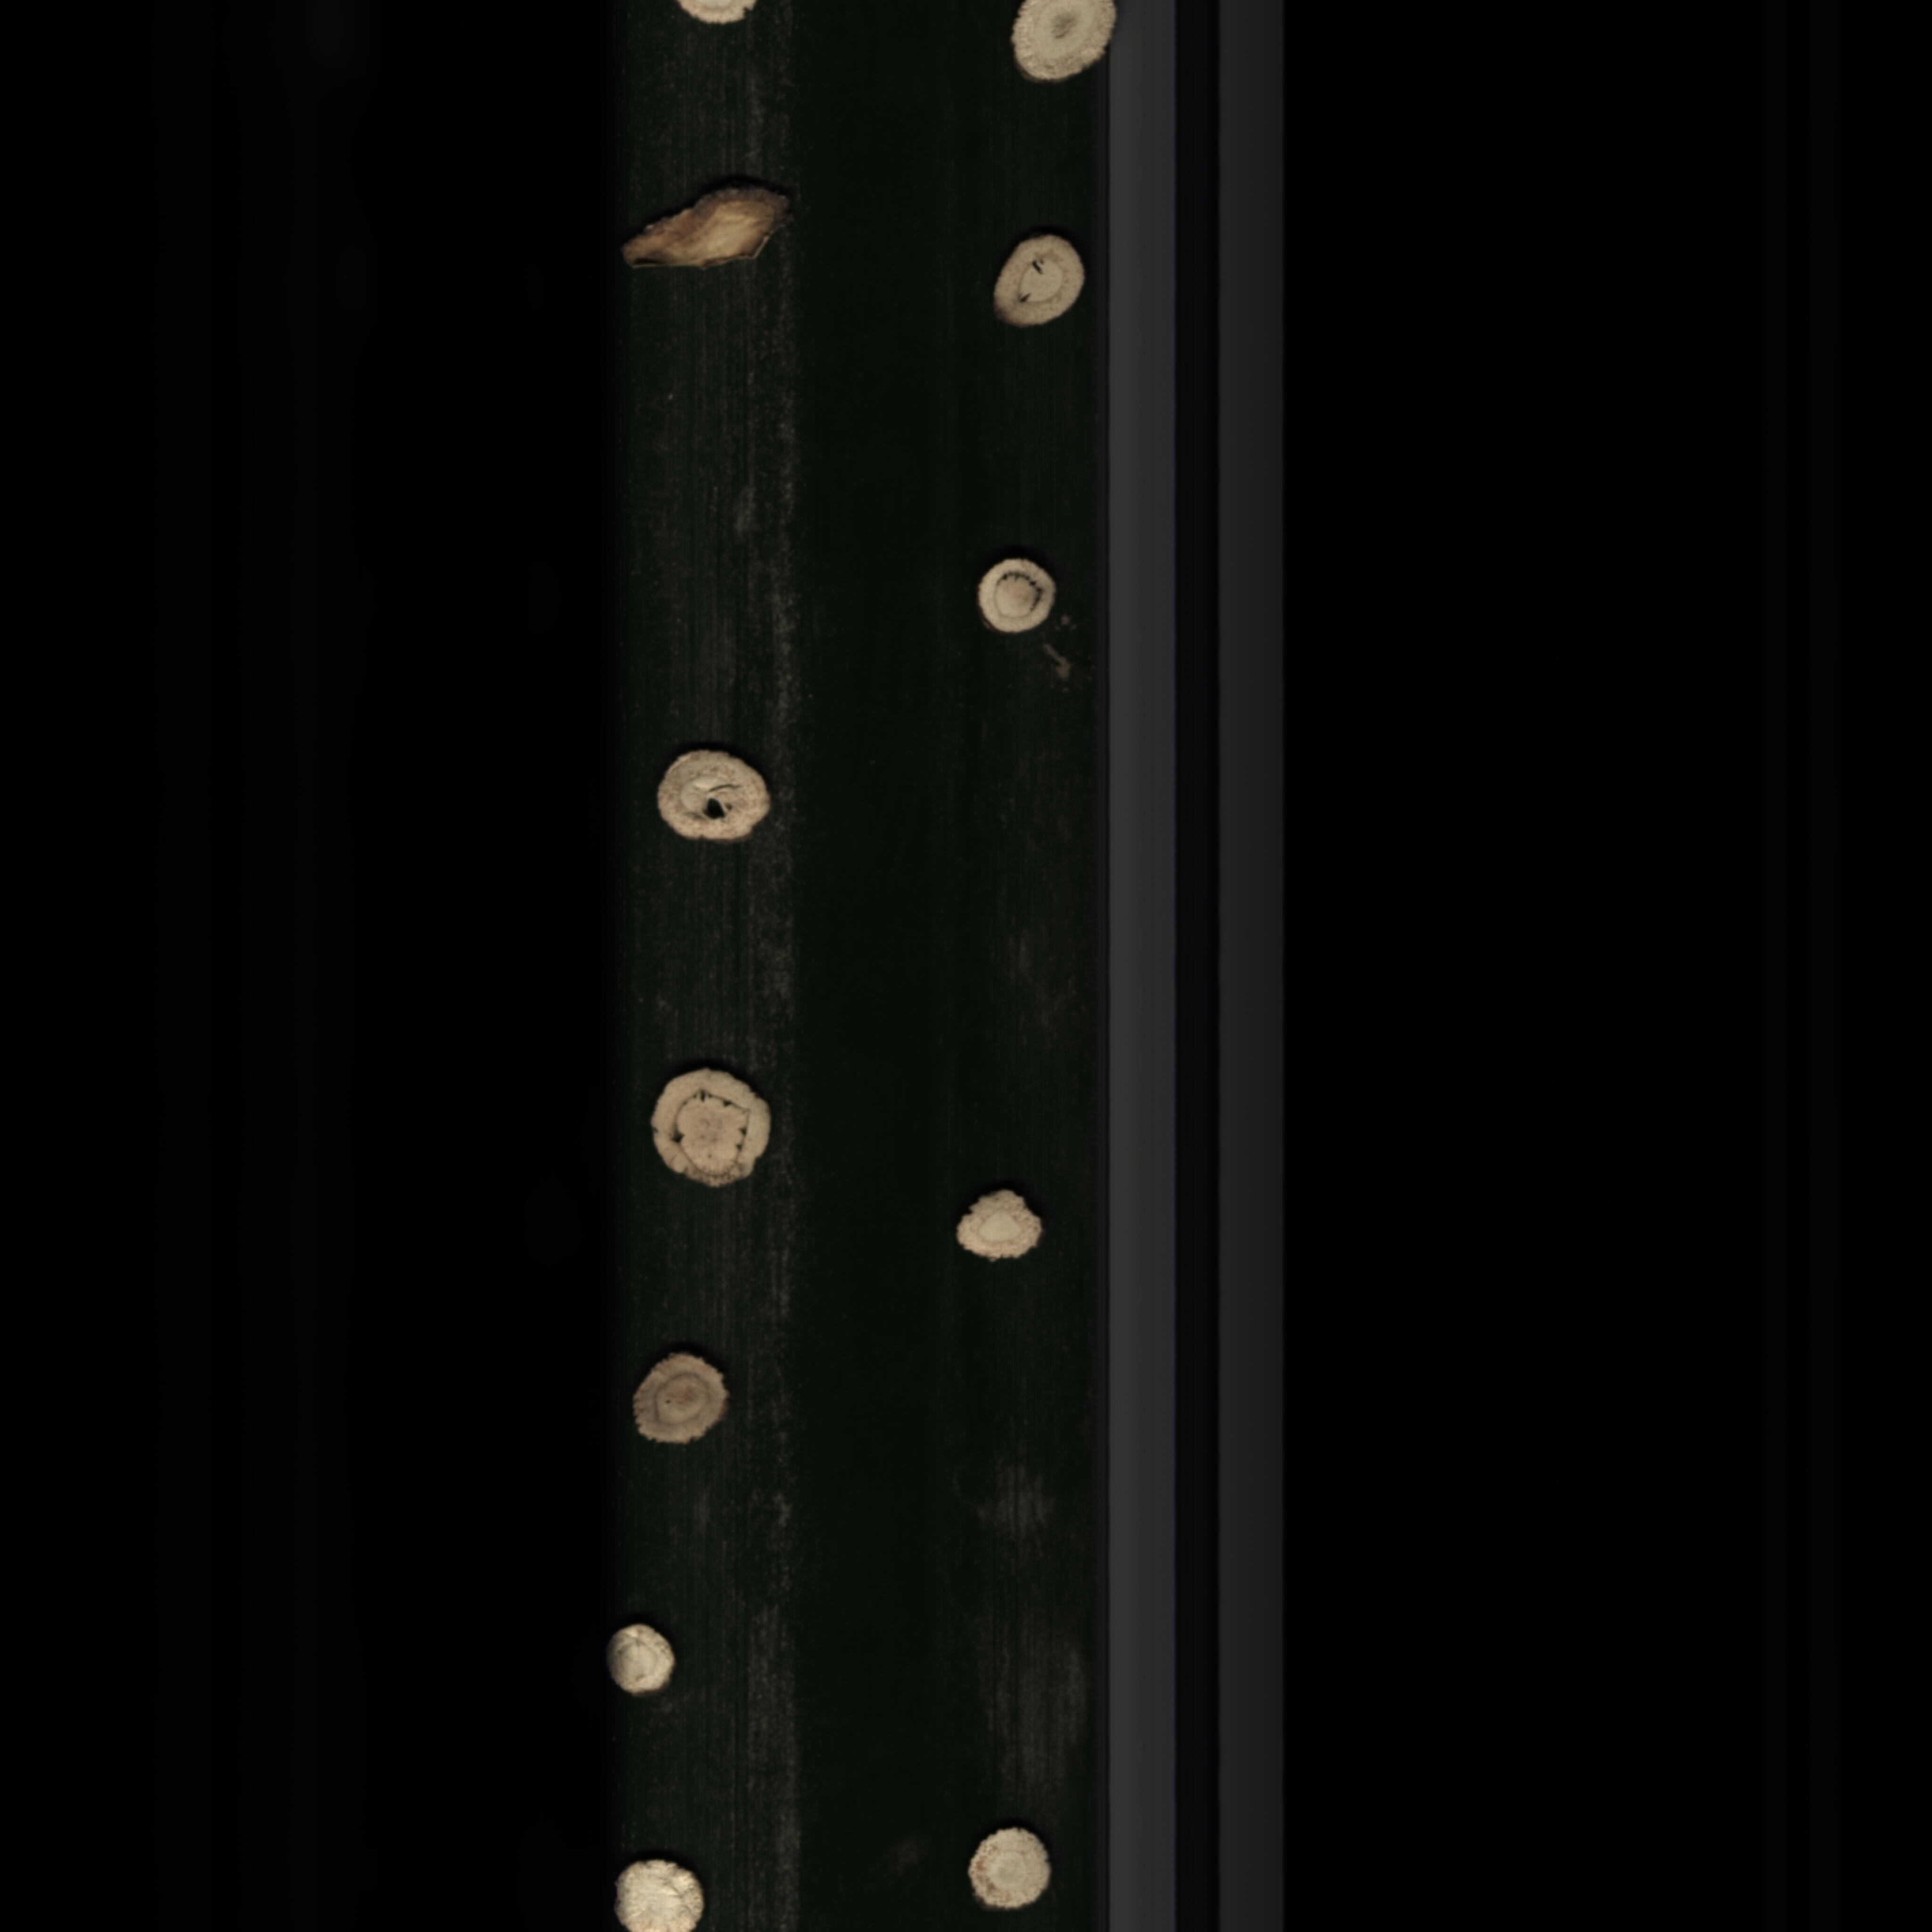bark: (614, 184, 807, 294)
hole: (637, 1058, 787, 1194), (651, 740, 777, 860), (987, 225, 1077, 345)
moldy: (626, 1348, 736, 1465)
